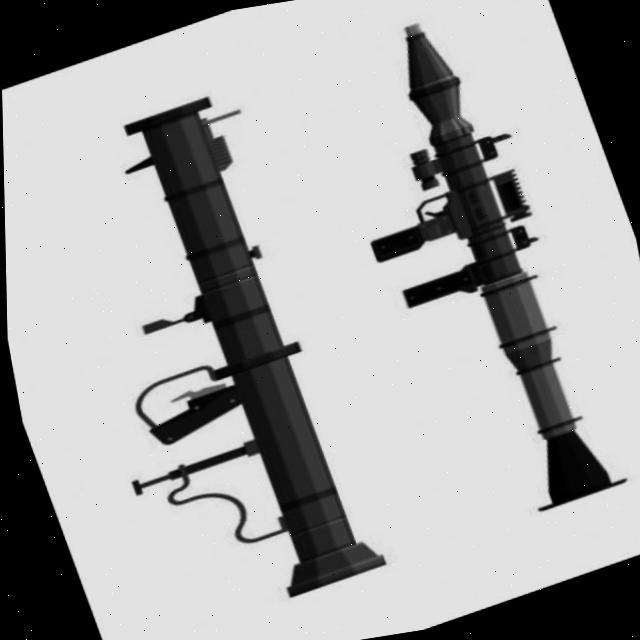rocket: (8, 79, 397, 640)
